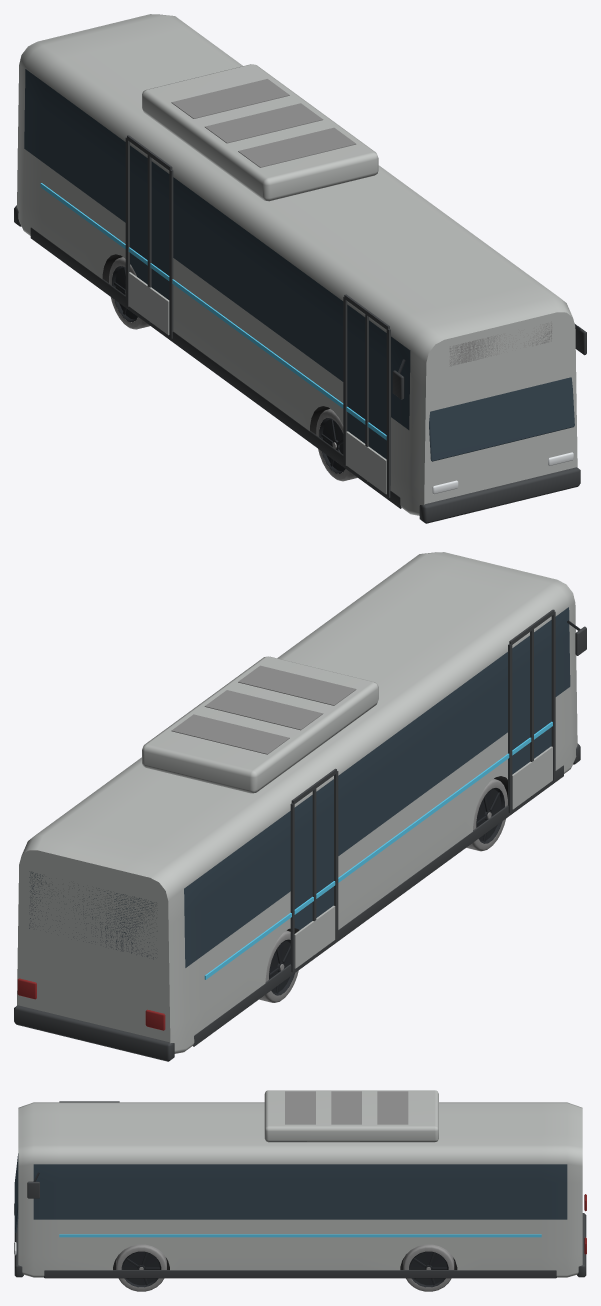
File: Bus_Transit_Intact.fbx
The picture shows the model from 3 angles, top to bottom: view 1: azimuth 30°, elevation 25°; view 2: azimuth 150°, elevation 25°; view 3: azimuth 270°, elevation 25°; orthographic projection. The views are drawn at different scales.
Parts seen in each view (by area): view 1: Bus_Transit_Intact_LOD0; view 2: Bus_Transit_Intact_LOD0; view 3: Bus_Transit_Intact_LOD0.
Part boxes in pixels (x1,y1,x2,y2): Bus_Transit_Intact_LOD0: (14,14,586,523); Bus_Transit_Intact_LOD0: (14,552,586,1061); Bus_Transit_Intact_LOD0: (14,1090,586,1291).
Size of what is drawn, in the model's own units: 2.91 by 3.41 by 11.17.
